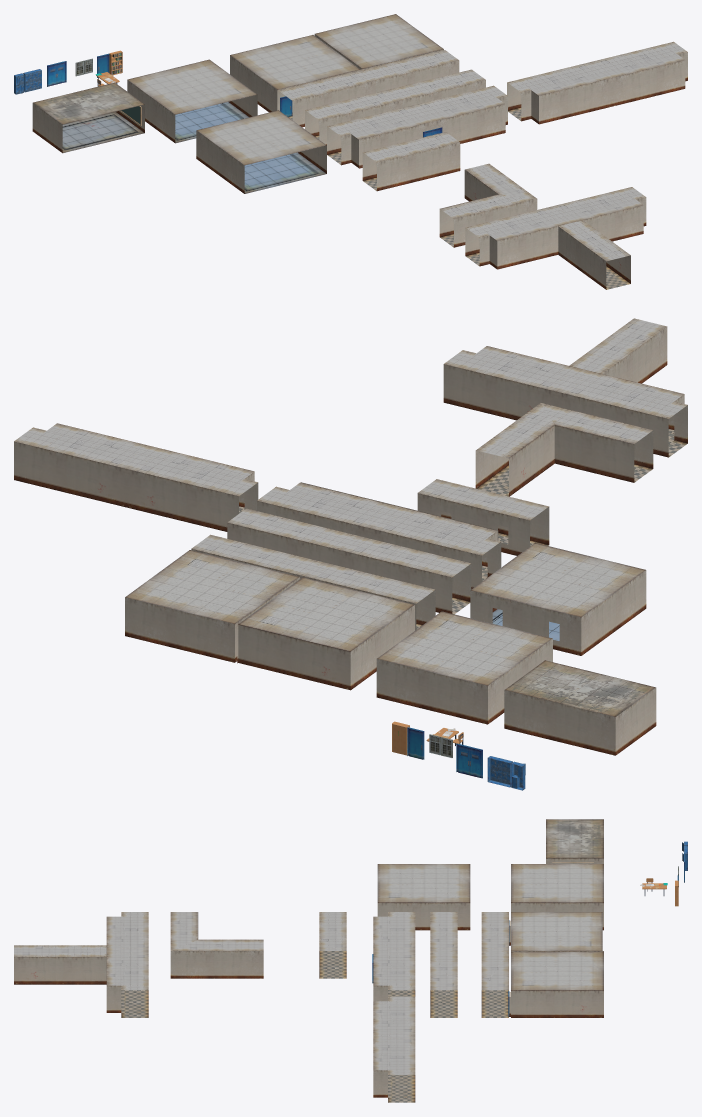
Rendered from School_Assets.fbx.
3 views of the same model, one above another, from view 1: azimuth 30°, elevation 25°; view 2: azimuth 150°, elevation 25°; view 3: azimuth 270°, elevation 25° (orthographic). The views are drawn at different scales.
Visible parts, largest first — view 1: S_corridor_T, S_corridor_2, S_room_, S_corridor_, S_room_1, S_room_5, S_room_3, S_corridor_L, S_corridor_1, S_room_4, S_corridor_5, S_corridor_6 (+3 smaller); view 2: S_corridor_T, S_corridor_2, S_room_3, S_room_, S_room_1, S_room_4, S_corridor_L, S_room_5, S_corridor_, S_corridor_1, S_corridor_4, S_corridor_3 (+3 smaller); view 3: S_corridor_T, S_room_4, S_room_, S_corridor_L, S_room_1, S_corridor_2, S_corridor_, S_room_3, S_room_5, S_corridor_6, S_corridor_3, S_corridor_1 (+2 smaller).
Boxes of the visible parts, left/top/right/bottom form: S_corridor_T: left=465, top=187, right=646, bottom=289; S_corridor_2: left=507, top=41, right=687, bottom=124; S_room_: left=196, top=110, right=326, bottom=193; S_corridor_: left=327, top=85, right=507, bottom=168; S_room_1: left=127, top=59, right=257, bottom=143; S_room_5: left=32, top=82, right=144, bottom=153; S_room_3: left=230, top=35, right=360, bottom=112; S_corridor_L: left=439, top=163, right=537, bottom=247; S_corridor_1: left=362, top=132, right=460, bottom=191; S_room_4: left=315, top=14, right=443, bottom=68; S_corridor_5: left=277, top=69, right=375, bottom=127; S_corridor_6: left=360, top=49, right=459, bottom=92; S_corridor_T: left=443, top=318, right=687, bottom=457; S_corridor_2: left=14, top=423, right=258, bottom=531; S_room_3: left=238, top=577, right=414, bottom=690; S_room_: left=470, top=543, right=646, bottom=655; S_room_1: left=376, top=611, right=552, bottom=724; S_room_4: left=125, top=550, right=299, bottom=662; S_corridor_L: left=475, top=403, right=653, bottom=496; S_room_5: left=504, top=660, right=656, bottom=755; S_corridor_: left=257, top=482, right=501, bottom=589; S_corridor_1: left=417, top=479, right=549, bottom=555; S_corridor_4: left=339, top=536, right=471, bottom=614; S_corridor_3: left=227, top=508, right=358, bottom=565; S_corridor_T: left=14, top=912, right=148, bottom=1017; S_room_4: left=511, top=952, right=603, bottom=1017; S_room_: left=377, top=864, right=470, bottom=930; S_corridor_L: left=170, top=912, right=263, bottom=978; S_room_1: left=511, top=864, right=603, bottom=930; S_corridor_2: left=373, top=996, right=415, bottom=1102; S_corridor_: left=372, top=912, right=415, bottom=1001; S_room_3: left=511, top=912, right=602, bottom=950; S_room_5: left=546, top=819, right=603, bottom=863; S_corridor_6: left=481, top=951, right=510, bottom=1017; S_corridor_3: left=430, top=951, right=457, bottom=1017; S_corridor_1: left=319, top=912, right=346, bottom=978.
Bounding box in the file's own units: 52.91 × 2.67 × 58.97.
Materials: 9 (9 with a texture image).
